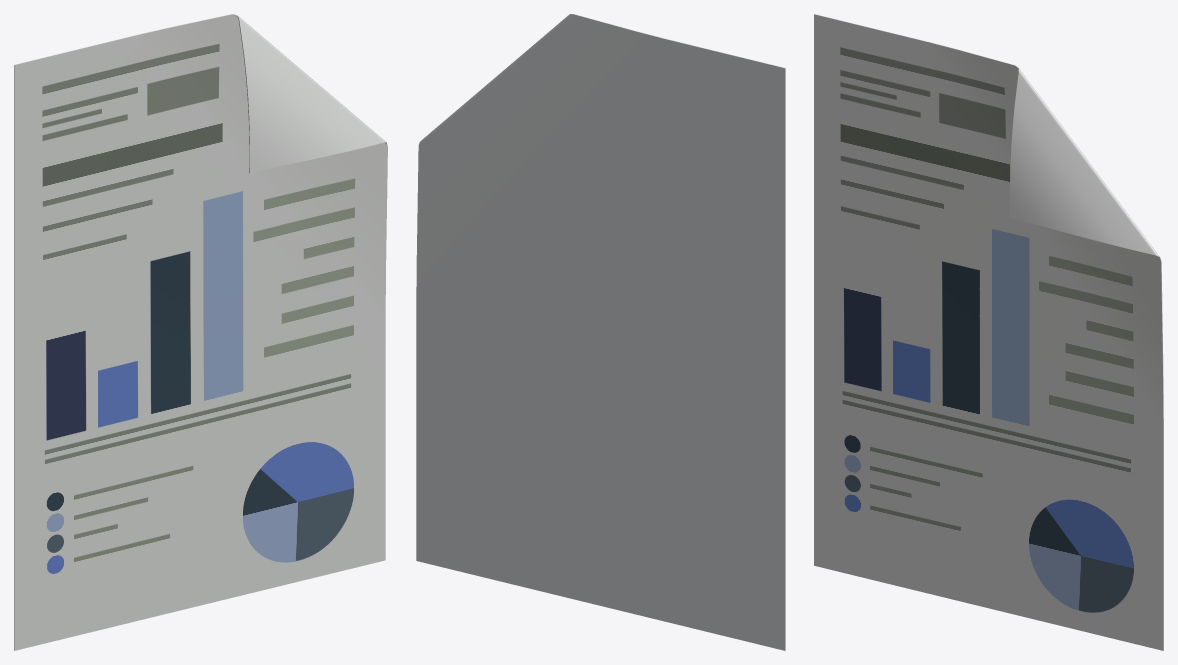
The model's file is doc.glb.
3 views of the same model, side by side, from view 1: azimuth 30°, elevation 25°; view 2: azimuth 150°, elevation 25°; view 3: azimuth 330°, elevation 25° (orthographic). The views are drawn at different scales.
Visible parts, largest first — view 1: node_id30; view 2: node_id30; view 3: node_id30.
Boxes of the visible parts, x1,y1,x2,y2 form: node_id30: [14, 14, 387, 650]; node_id30: [416, 14, 785, 650]; node_id30: [814, 14, 1163, 650].
Bounding box in the file's own units: 0.3395 × 0.512 × 0.0228.
1 material, 1 textured.
